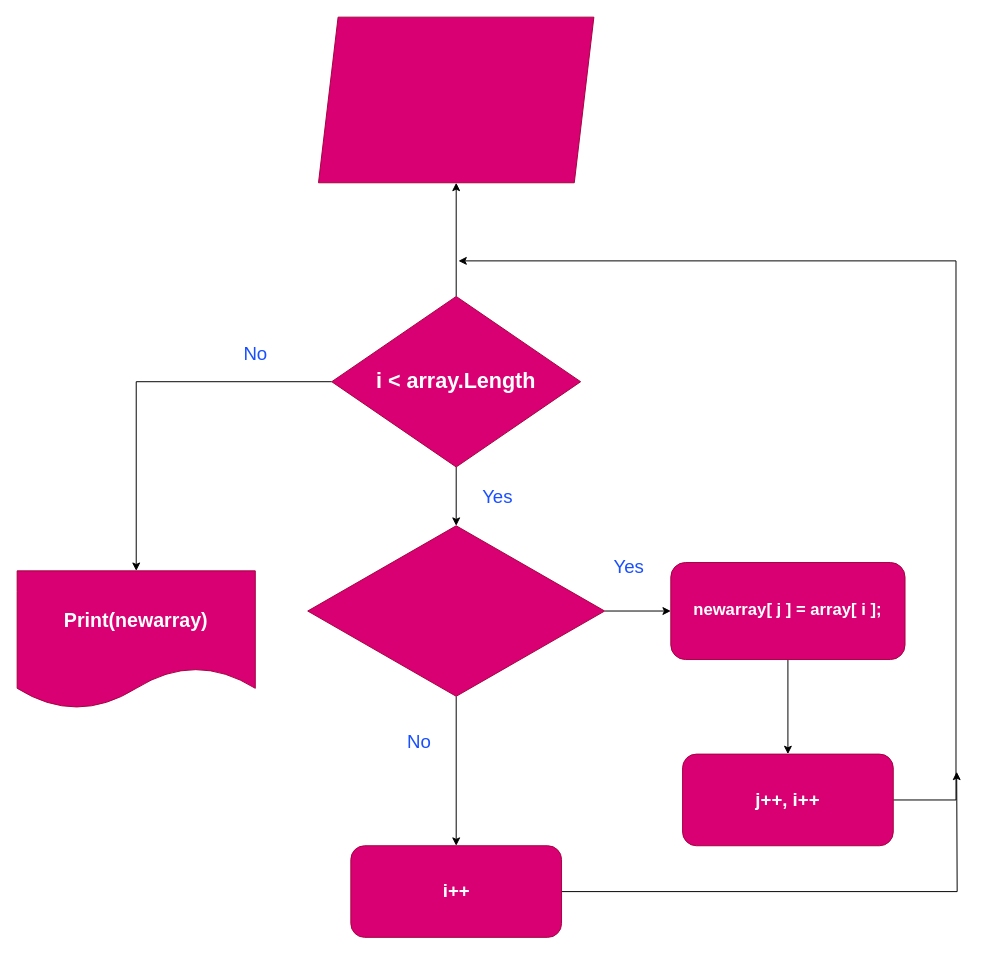
Some shapes in this 983 by 955 pixel diagram are drawn without their labels. Here are the shapes that lost their labels. From the top down, the centre of each, then its label:
At point (456, 99): "string[] array = ... string[] newarray = ... int j = 0;".
At point (456, 610): "if array[i].Length <= size-of-element".
